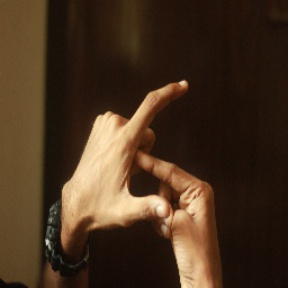E: (118, 74, 204, 225)
